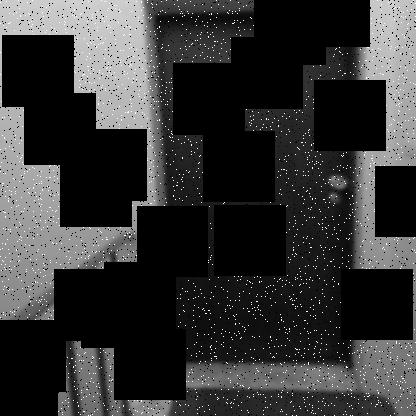Porte: (141, 0, 364, 376)
